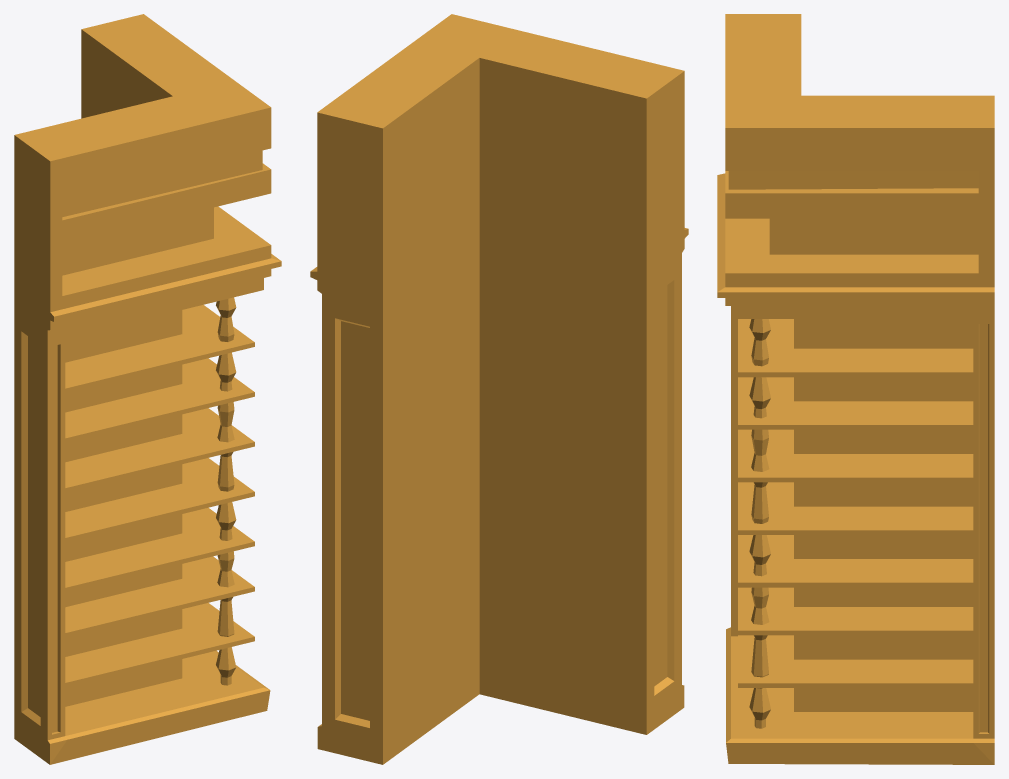
File: SM_Bookcase_Tall_Modular_Corner_Outer.fbx
3 views of the same model, side by side, from view 1: azimuth 30°, elevation 25°; view 2: azimuth 150°, elevation 25°; view 3: azimuth 270°, elevation 25° (orthographic). The views are drawn at different scales.
Parts seen in each view (by area): view 1: bookcase-tall-modular-corner-outer; view 2: bookcase-tall-modular-corner-outer; view 3: bookcase-tall-modular-corner-outer.
Part boxes in pixels (left/top/right/bottom): bookcase-tall-modular-corner-outer: left=14, top=14, right=281, bottom=764; bookcase-tall-modular-corner-outer: left=310, top=14, right=688, bottom=764; bookcase-tall-modular-corner-outer: left=717, top=14, right=994, bottom=764.
Bounding box in the file's own units: 1.58 × 4 × 1.58.
